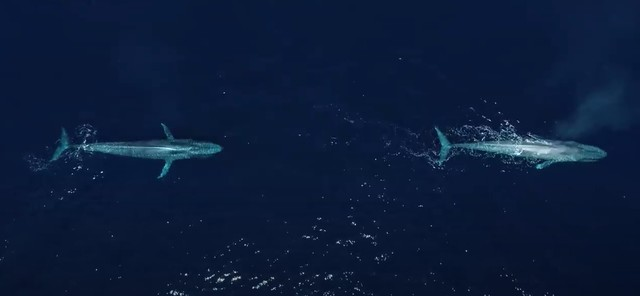whale: (43, 117, 229, 183), (423, 124, 611, 173)
